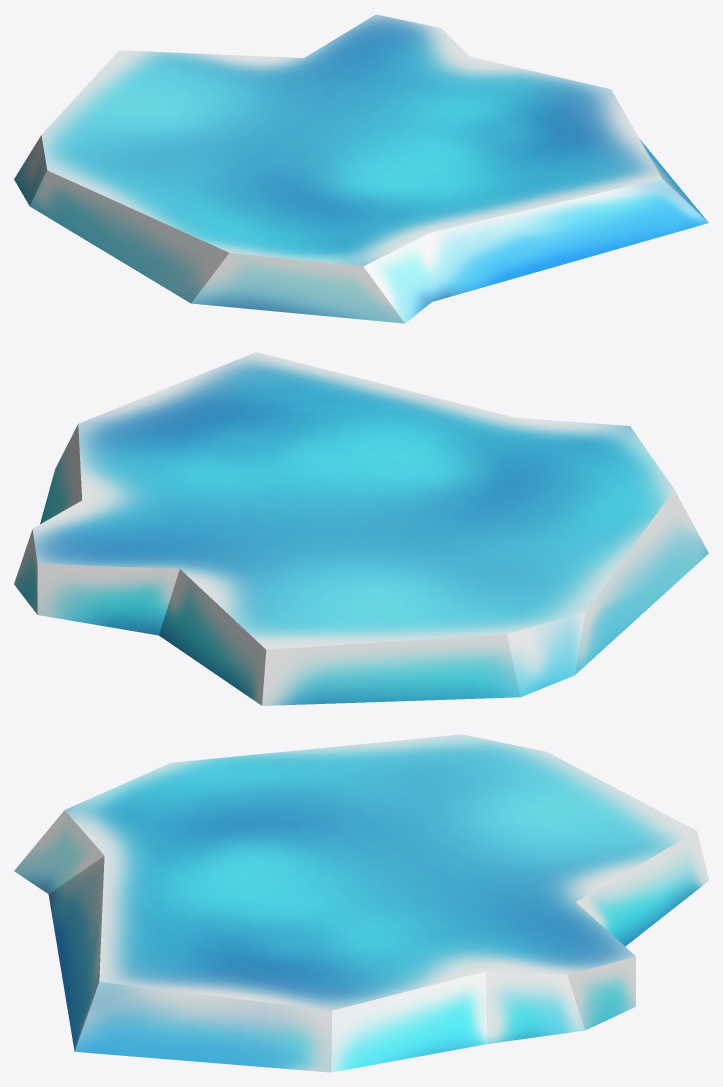
File: Ice01.fbx
3 renders of one model, top to bottom at view 1: azimuth 30°, elevation 25°; view 2: azimuth 150°, elevation 25°; view 3: azimuth 270°, elevation 25°, orthographic. The views are drawn at different scales.
Parts seen in each view (by area): view 1: Circle.002; view 2: Circle.002; view 3: Circle.002.
Boxes of the visible parts, left/top/right/bottom form: Circle.002: left=14, top=14, right=708, bottom=323; Circle.002: left=14, top=352, right=708, bottom=705; Circle.002: left=14, top=734, right=708, bottom=1072.
Size of the model in its own units: 123 by 10 by 124.
